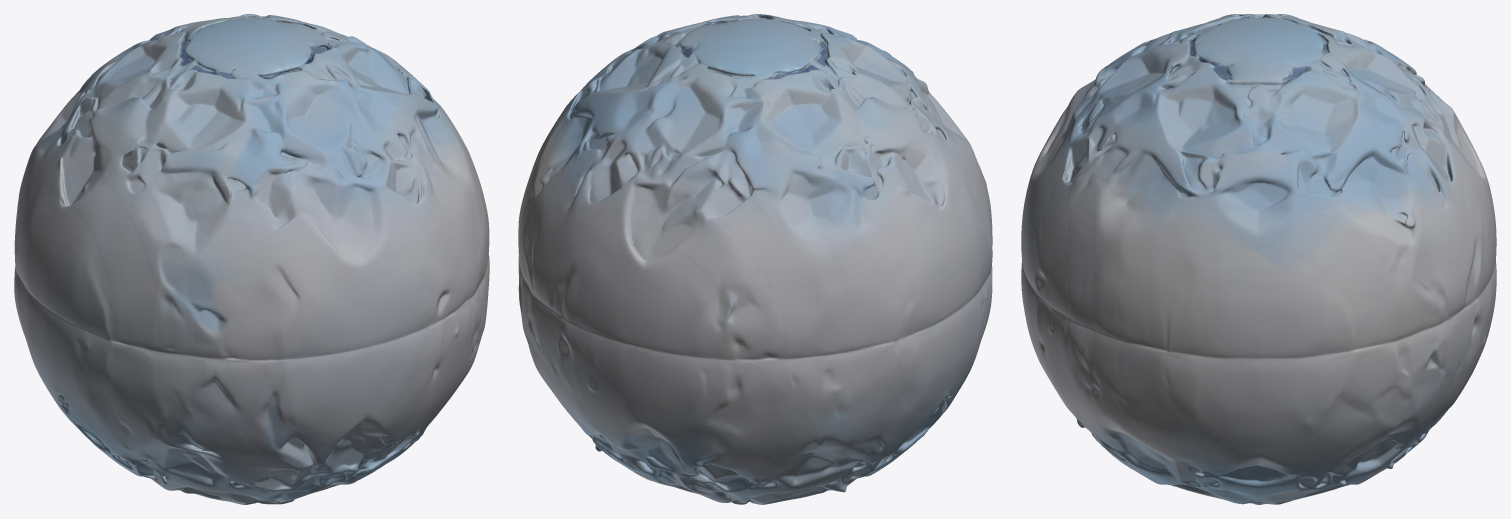
The model's file is detailed_realistic_model_crystalball_15.glb.
The picture shows the model from 3 angles, left to right: view 1: azimuth 30°, elevation 25°; view 2: azimuth 150°, elevation 25°; view 3: azimuth 270°, elevation 25°; orthographic projection.
Parts seen in each view (by area): view 1: tripo_node_d7078022-5886-437e-b023-7568617ab4b9; view 2: tripo_node_d7078022-5886-437e-b023-7568617ab4b9; view 3: tripo_node_d7078022-5886-437e-b023-7568617ab4b9.
Boxes of the visible parts, box(x1,y1,x2,y2) form: tripo_node_d7078022-5886-437e-b023-7568617ab4b9: box(14, 14, 489, 504); tripo_node_d7078022-5886-437e-b023-7568617ab4b9: box(518, 14, 992, 504); tripo_node_d7078022-5886-437e-b023-7568617ab4b9: box(1021, 14, 1496, 504).
Size of the model in its own units: 0.9674 by 0.9999 by 0.9683.
1 material, 1 textured.
